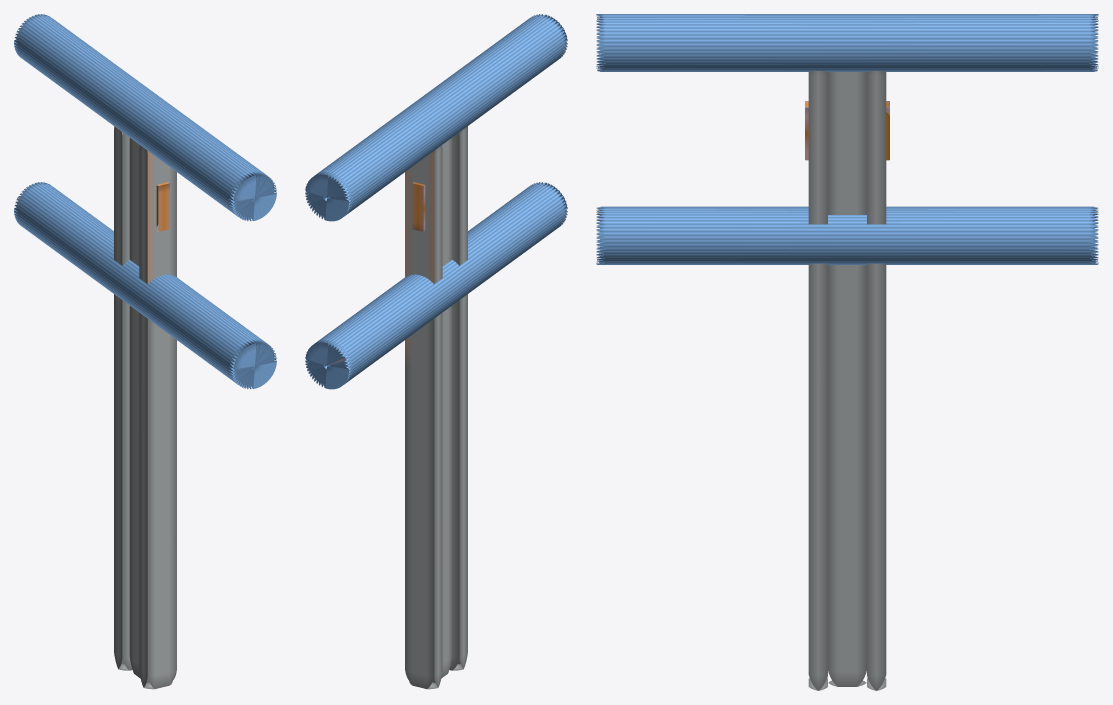
Rendered from langan.obj.
The picture shows the model from 3 angles, left to right: view 1: azimuth 30°, elevation 25°; view 2: azimuth 150°, elevation 25°; view 3: azimuth 270°, elevation 25°; orthographic projection. The views are drawn at different scales.
Parts seen in each view (by area): view 1: cuboid, cylinder; view 2: cuboid, cylinder; view 3: cylinder, cuboid.
Part boxes in pixels (x1,y1,x2,y2): cuboid: (114,126,176,689); cylinder: (14,14,276,389); cuboid: (405,126,467,689); cylinder: (305,14,567,389); cylinder: (596,14,1098,264); cuboid: (805,71,889,690).
Size of the model in its own units: 0.1875 by 2.38 by 1.62.
1 material, 1 textured.
